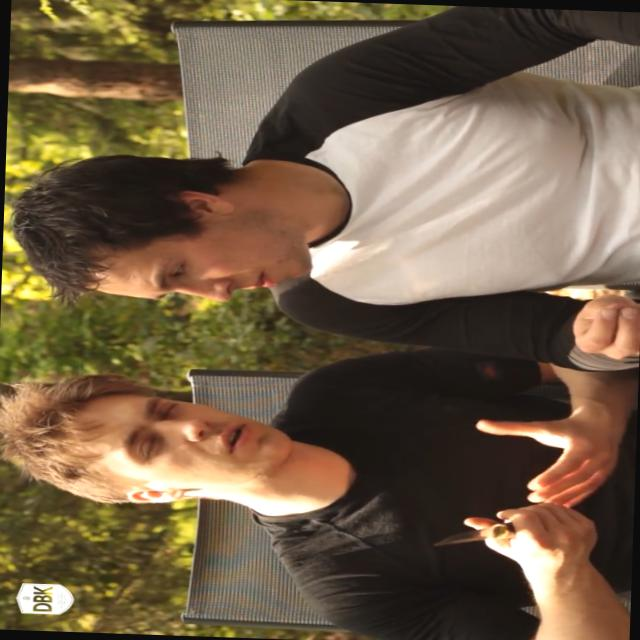knife: (406, 494, 568, 564)
